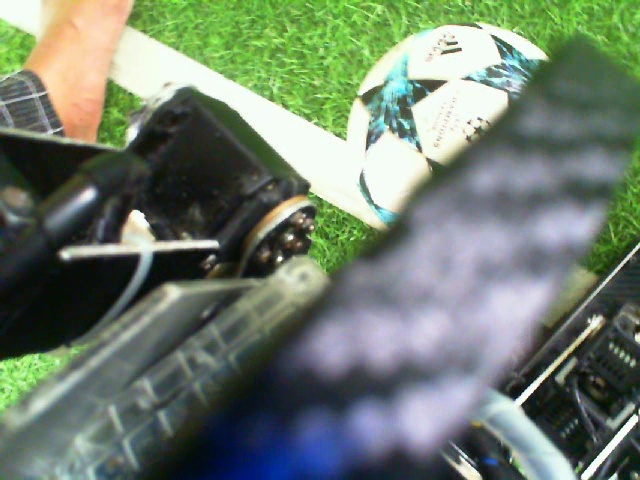ball: (344, 20, 556, 235)
